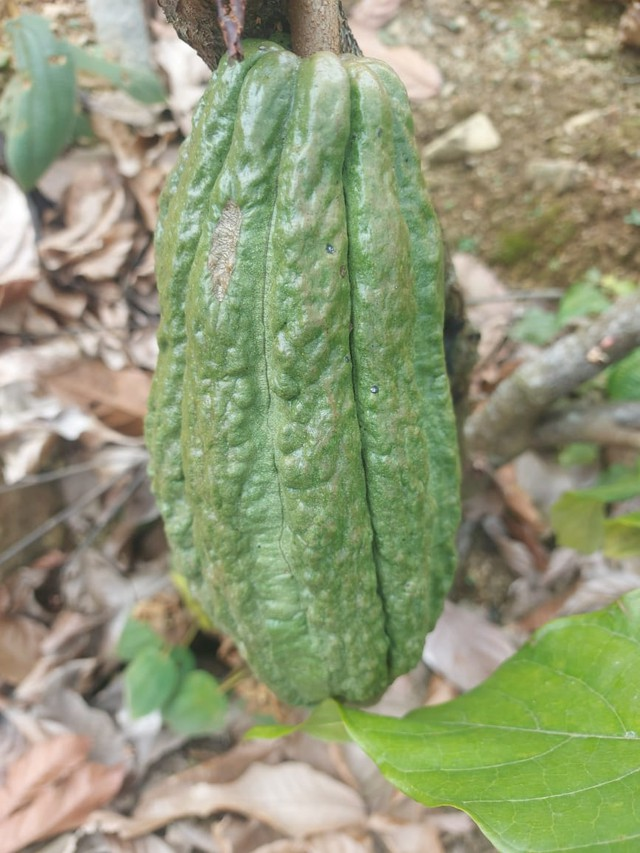Health: (120, 25, 487, 728)
